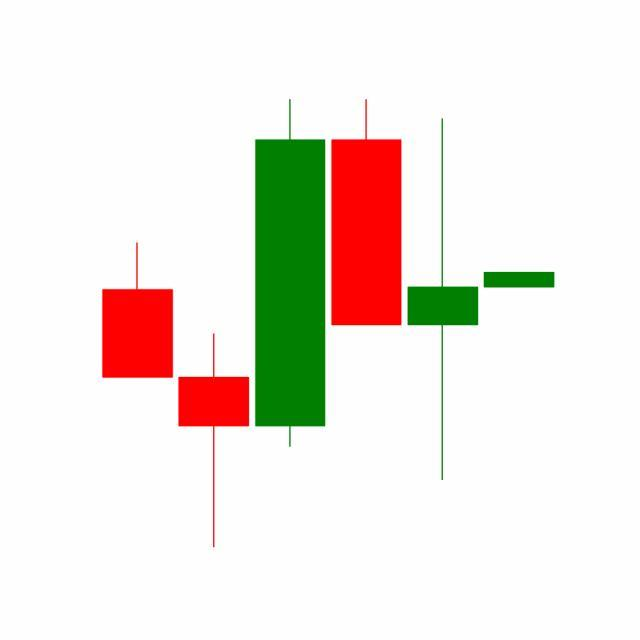Spinning Top: (404, 115, 482, 485)
